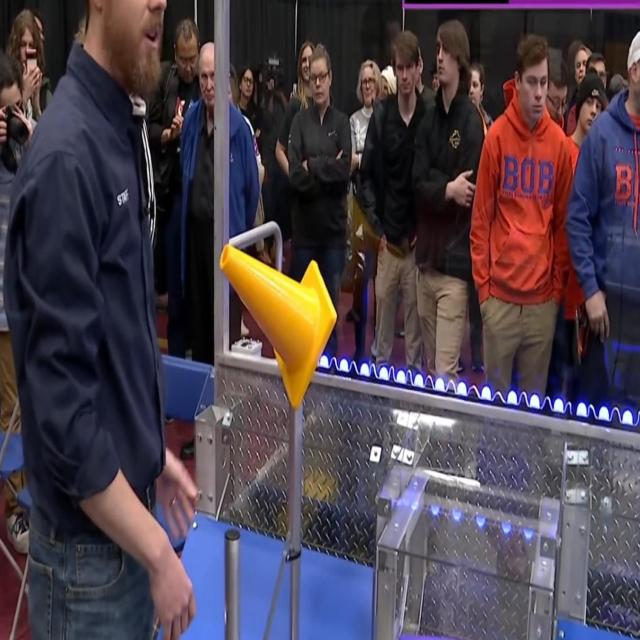frc_cone: (220, 239, 334, 409)
frc_cube: (398, 623, 498, 640)
